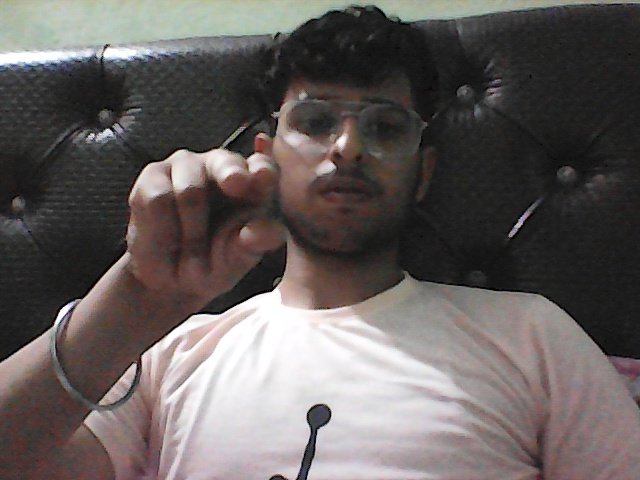no: (90, 140, 316, 300)
